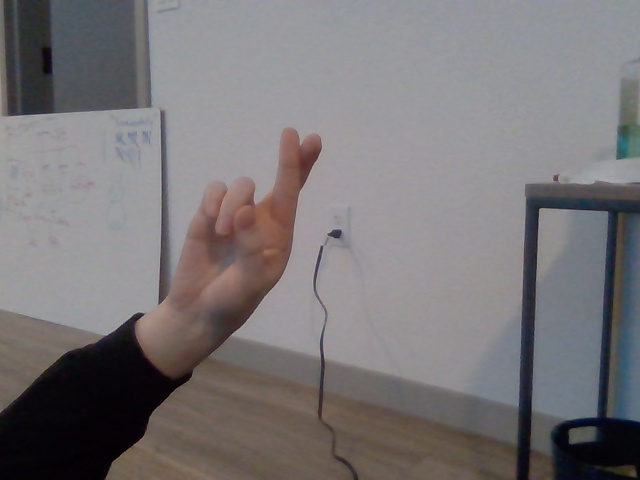r: (168, 126, 322, 350)
